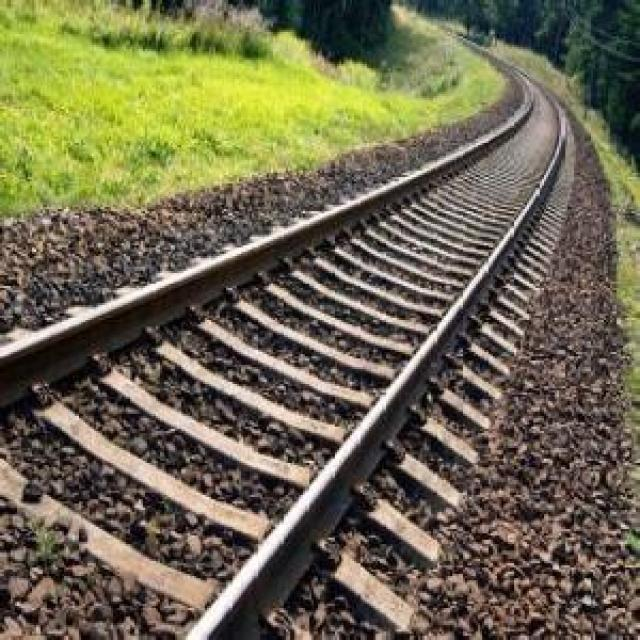rail: (0, 28, 581, 640)
